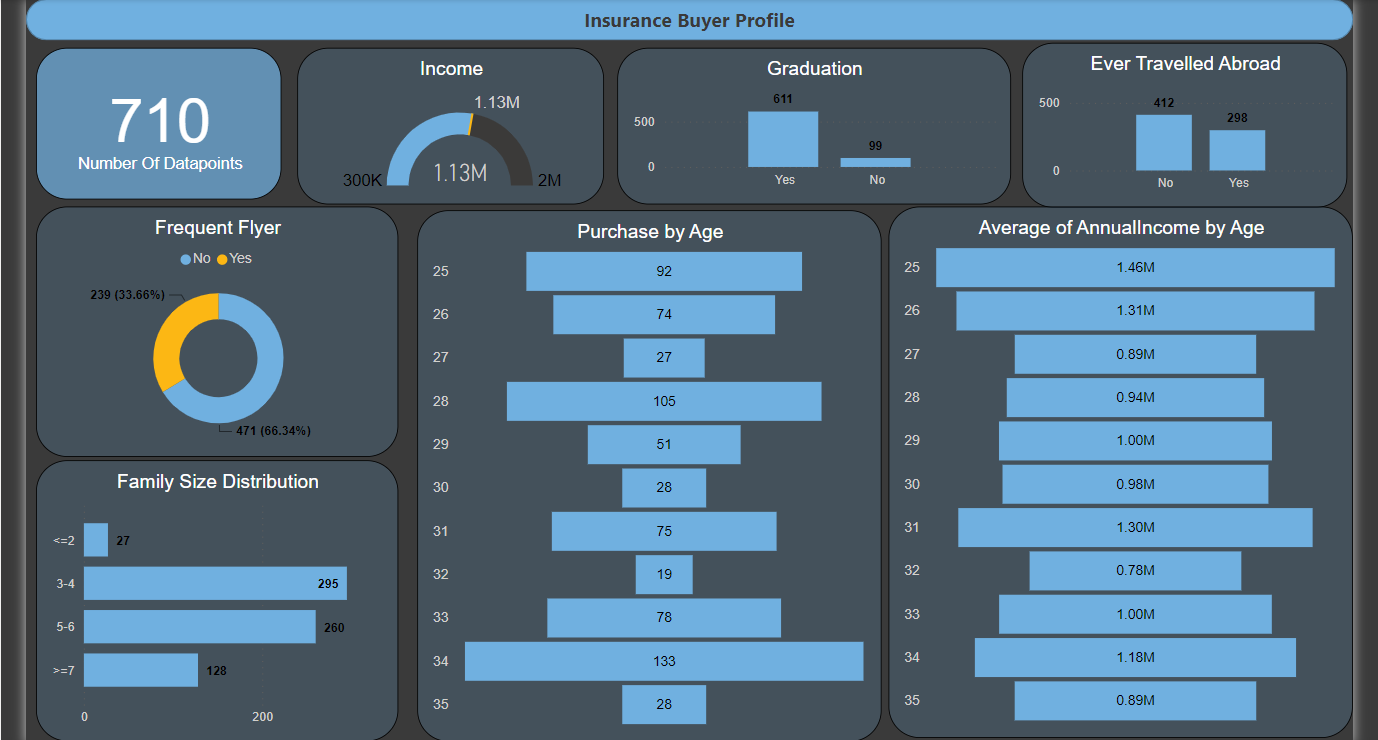

The dashboard page shown, as its layout file describes it:
{"tool":"powerbi","page":{"name":"Insurance buyer profile","canvas":[1280,720],"ordinal":1},"visuals":[{"type":"card","fields":{"Values":["CountNonNull(8 TravelInsurancePrediction.TravelInsurance)"]},"box":[9.6,46.6,237.2,146.7],"z":0},{"type":"shape","box":[0,0,1280.6,39.8],"z":1000},{"type":"columnChart","title":"Graduation ","fields":{"Y":["CountNonNull(8 TravelInsurancePrediction.GraduateOrNot)"],"Category":["8 TravelInsurancePrediction.GraduateOrNot"]},"box":[570.4,46.6,379.8,150.8],"z":2000},{"type":"columnChart","title":"Ever Travelled Abroad","fields":{"Category":["8 TravelInsurancePrediction.EverTravelledAbroad"],"Y":["CountNonNull(8 TravelInsurancePrediction.EverTravelledAbroad)"]},"box":[961.1,42.5,314,159],"z":3000},{"type":"clusteredBarChart","title":"Family Size Distribution","fields":{"Category":["8 TravelInsurancePrediction.Column"],"Y":["CountNonNull(8 TravelInsurancePrediction.Age)"]},"box":[9.6,445.6,349.6,271.5],"z":4000},{"type":"funnel","fields":{"Category":["8 TravelInsurancePrediction.Age"],"Y":["Avg(8 TravelInsurancePrediction.AnnualIncome)"]},"box":[832.2,200.2,448.3,512.8],"z":5000},{"type":"gauge","title":"Income","fields":{"Y":["Avg(8 TravelInsurancePrediction.AnnualIncome)"],"MinValue":["Min(8 TravelInsurancePrediction.AnnualIncome)1"],"MaxValue":["Max(8 TravelInsurancePrediction.AnnualIncome)2"],"TargetValue":["Avg(8 TravelInsurancePrediction.AnnualIncome)"]},"box":[261.9,46.6,296.1,150.8],"z":6000},{"type":"donutChart","title":"Frequent Flyer","fields":{"Y":["CountNonNull(8 TravelInsurancePrediction.FrequentFlyer)"],"Series":["8 TravelInsurancePrediction.FrequentFlyer"]},"box":[9.6,200.2,349.6,241.3],"z":7000},{"type":"funnel","title":"Purchase by Age","fields":{"Y":["CountNonNull(8 TravelInsurancePrediction.EverTravelledAbroad)"],"Category":["8 TravelInsurancePrediction.Age"]},"box":[377,204.3,448.3,512.8],"z":8000}]}

Visuals, with their boxes on the page's 1280x720 design canvas (x1, y1, x2, y2). These are canvas units, not pixel positions in the 1378x740 screenshot, which may show the page scaled, cropped or inside an application window:
card - CountNonNull(8 TravelInsurancePrediction.TravelInsurance): Rect(10, 47, 247, 193)
shape: Rect(0, 0, 1281, 40)
"Graduation " columnChart: Rect(570, 47, 950, 197)
"Ever Travelled Abroad" columnChart: Rect(961, 42, 1275, 202)
"Family Size Distribution" clusteredBarChart: Rect(10, 446, 359, 717)
funnel - 8 TravelInsurancePrediction.Age x Avg(8 TravelInsurancePrediction.AnnualIncome): Rect(832, 200, 1280, 713)
"Income" gauge: Rect(262, 47, 558, 197)
"Frequent Flyer" donutChart: Rect(10, 200, 359, 442)
"Purchase by Age" funnel: Rect(377, 204, 825, 717)
